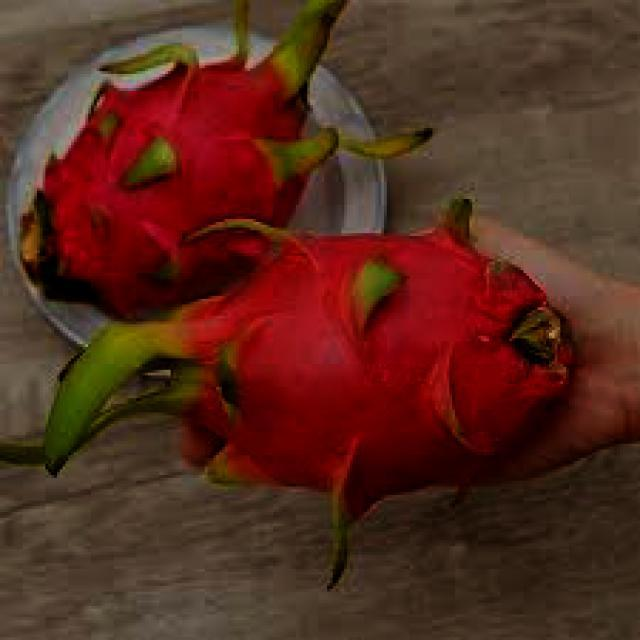trang: (0, 193, 585, 597), (12, 0, 434, 321)
